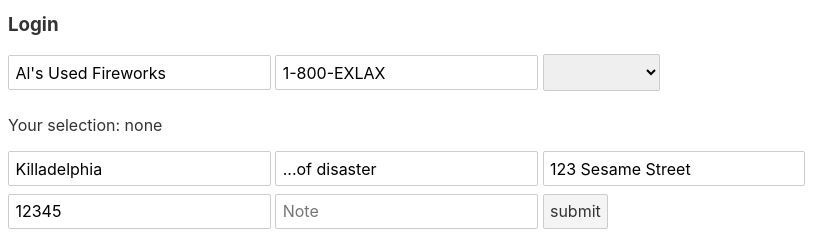
Test: Interactions › WHEN: The user selects a recyclable, › THEN: That selection is rendered in the document.
The image size is (822, 246).
Expected: the text with id "user-selection" is empty, left=8, top=115, right=162, bottom=135
Select "tires" in the dropdown with test id "dropdown" at [602, 73], box left=543, top=54, right=660, bottom=91
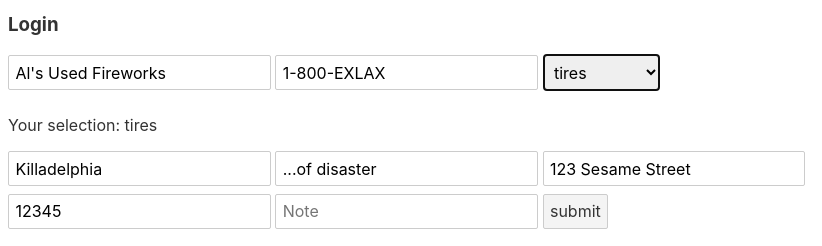
Result: the text with id "user-selection" reads "Your selection: tires" at left=8, top=115, right=157, bottom=135
